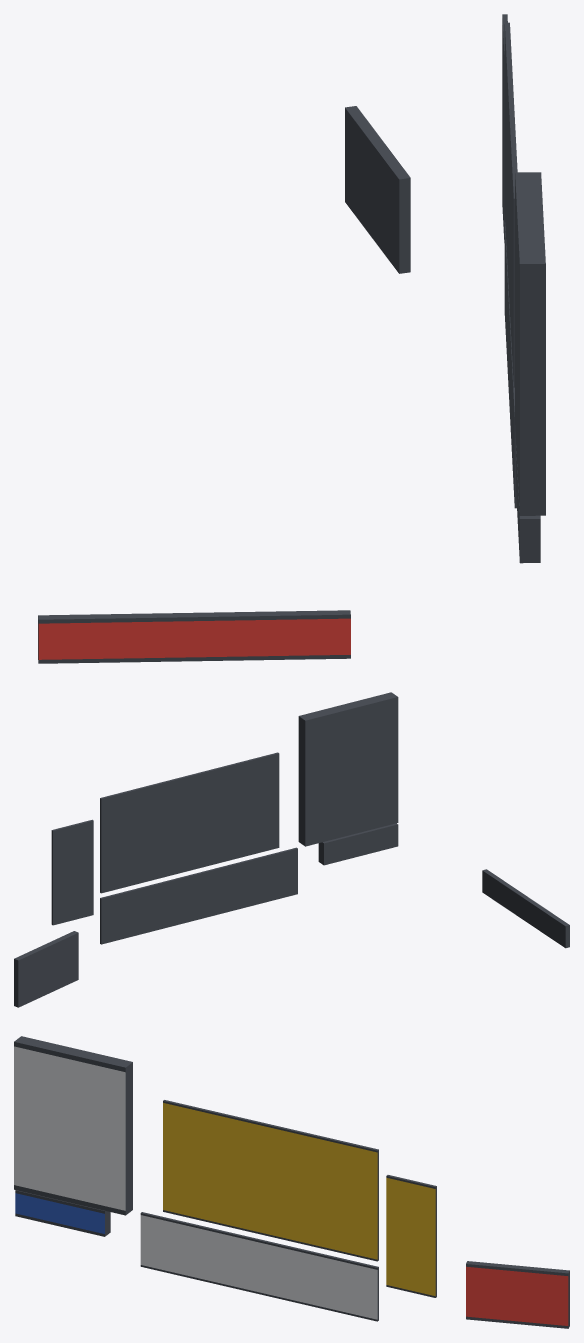
Rendered from nyc-1515-broadway-signs.glb.
The picture shows the model from 3 angles, top to bottom: view 1: azimuth 30°, elevation 25°; view 2: azimuth 150°, elevation 25°; view 3: azimuth 270°, elevation 25°; orthographic projection. The views are drawn at different scales.
Parts seen in each view (by area): view 1: One Astor Plaza Signs; view 2: One Astor Plaza Signs; view 3: One Astor Plaza Signs.
Part boxes in pixels (box(x1,y1,x2,y2)): One Astor Plaza Signs: box(38, 14, 545, 663); One Astor Plaza Signs: box(14, 692, 569, 1007); One Astor Plaza Signs: box(14, 1036, 569, 1328).
Size of the model in its own units: 50.06 by 22.3 by 54.52.
